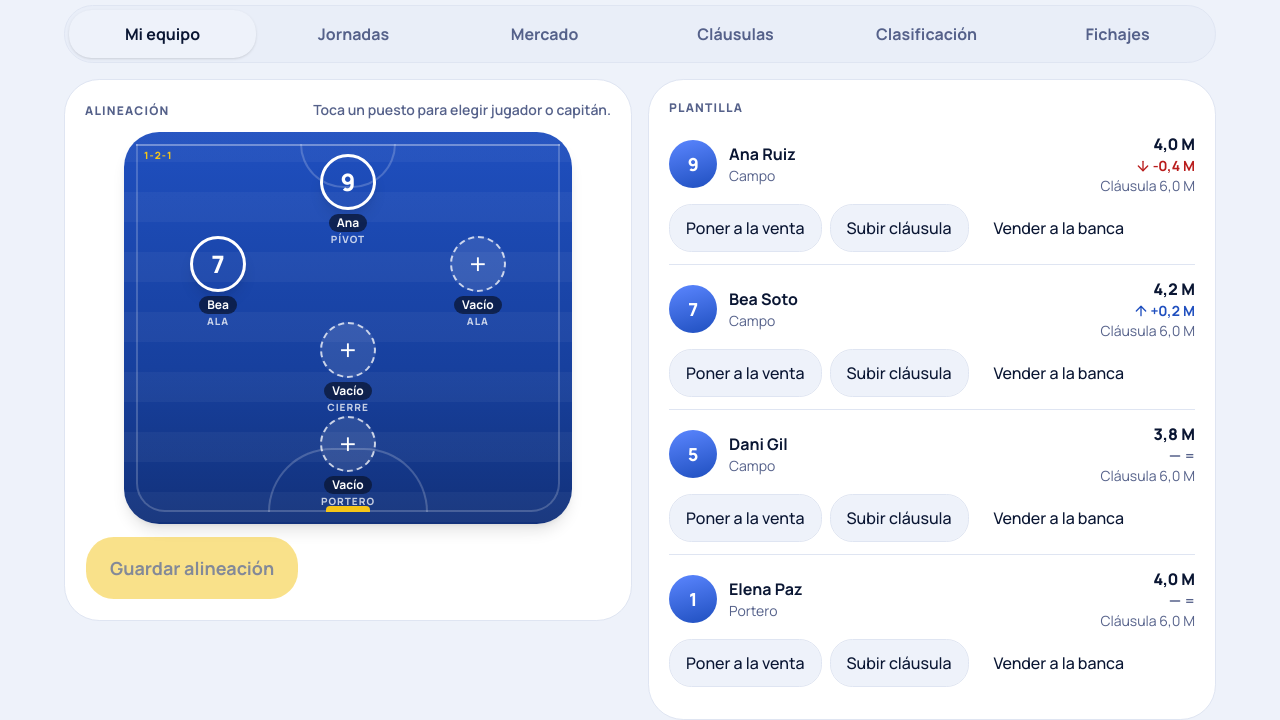
it: Mi equipo: vender › tras vender enseña el precio que cobró de verdad, no el calculado antes
(page scrolled)
Click the button "Vender a la banca" below "Bea Soto": click(1059, 373) 976,349 -> 1141,397
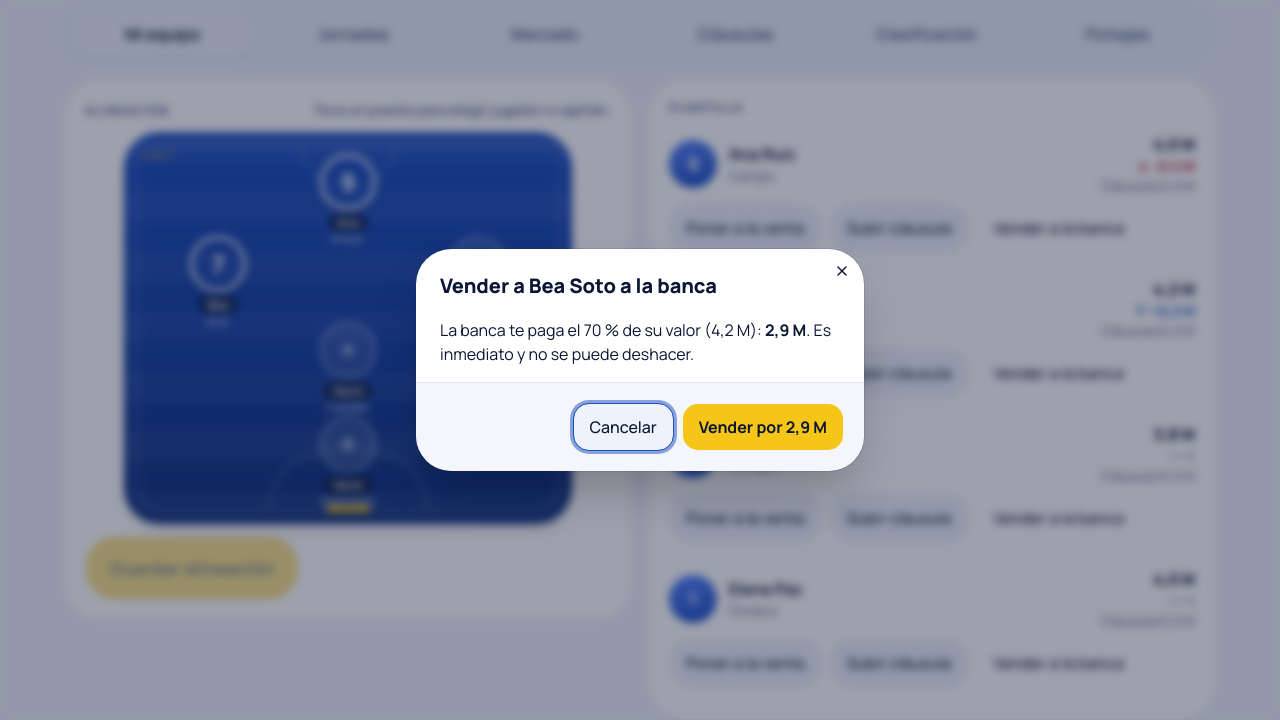
Click the button "Vender por 2,9 M": click(763, 427) 682,403 -> 844,451
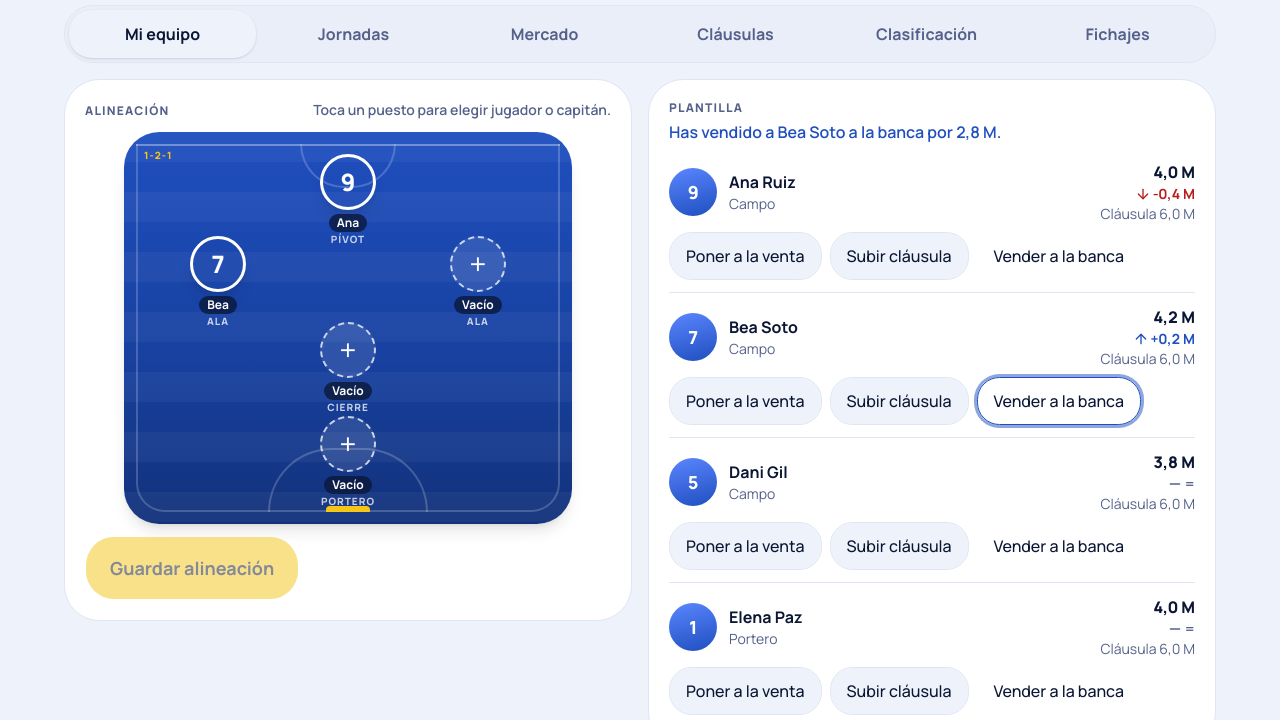
Check: the message shows "Has vendido a Bea Soto a la banca por 2,8 M", box 669,121 -> 1001,143
